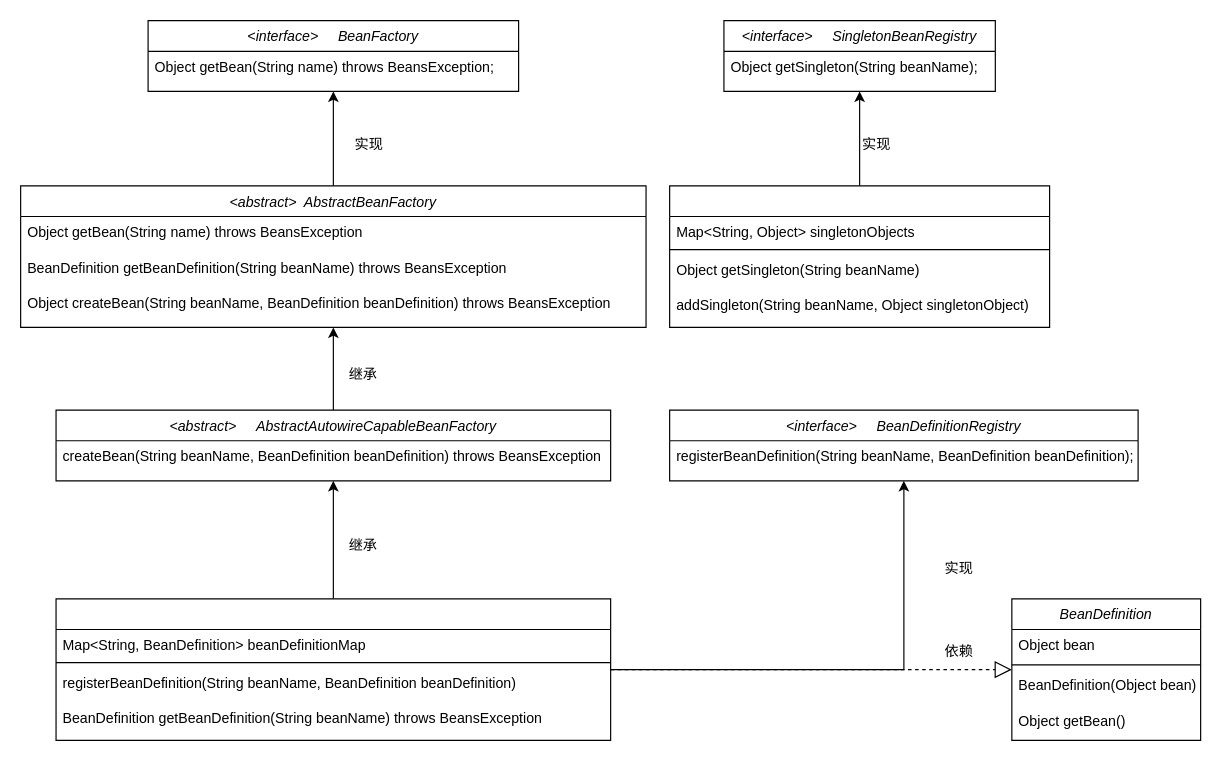
Some shapes in this 1221 by 765 pixel diagram are drawn without their labels. Each missing label, with the box of its shape:
DefaultListableBeanFactory: (55, 598, 611, 740)
DefaultSingletonBeanRegistry: (668, 185, 1050, 327)
